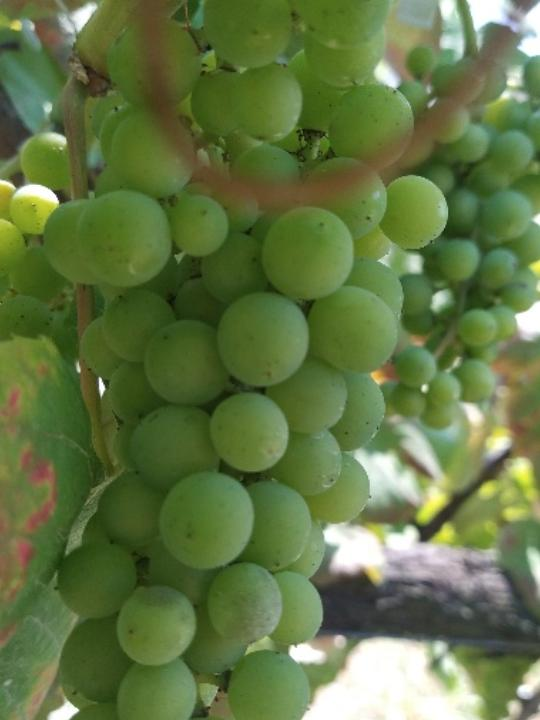grape: (34, 0, 455, 720)
